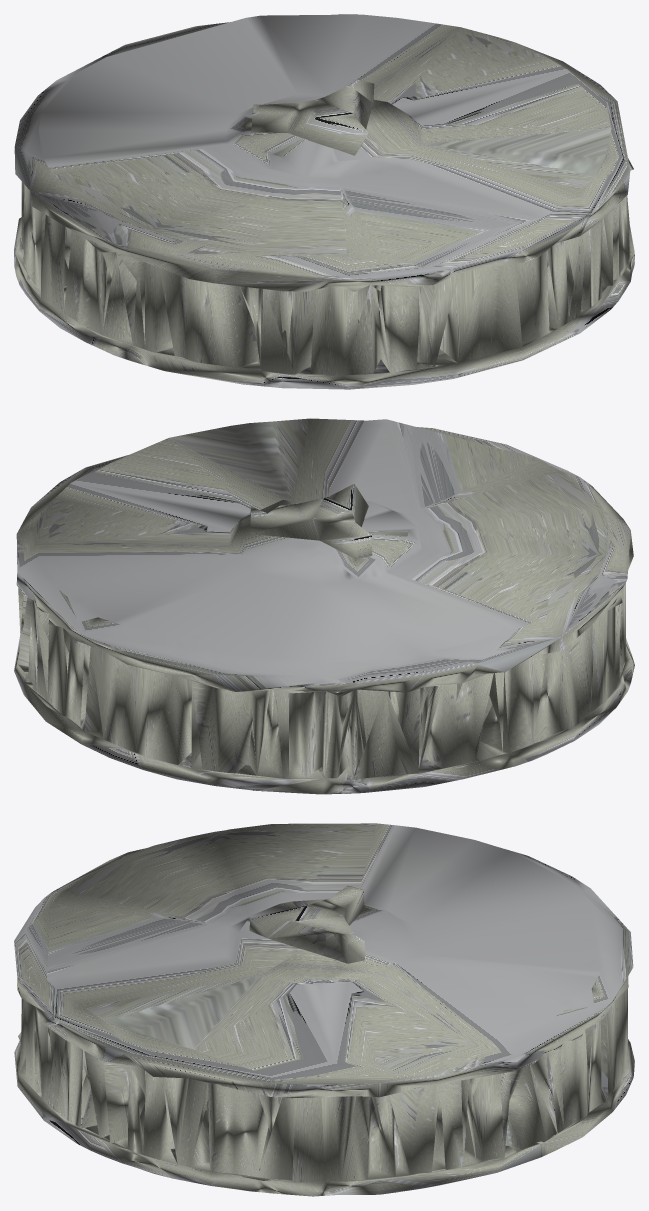
File: airf.glb
3 views of the same model, one above another, from view 1: azimuth 30°, elevation 25°; view 2: azimuth 150°, elevation 25°; view 3: azimuth 270°, elevation 25° (orthographic).
Visible parts, largest first — view 1: airf; view 2: airf; view 3: airf.
Part boxes in pixels (<box>): airf: <box>14,14,634,389</box>; airf: <box>14,418,634,794</box>; airf: <box>14,823,634,1196</box>.
Bounding box in the file's own units: 0.2398 × 0.0661 × 0.24.
1 material, 1 textured.
